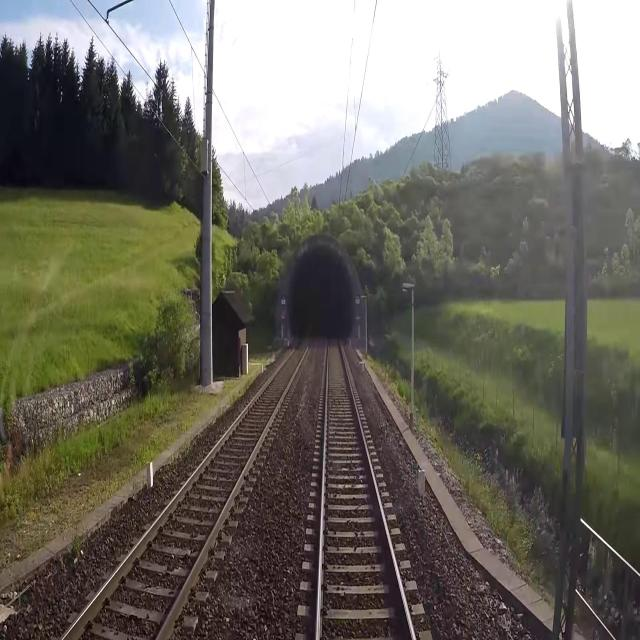rail-track: (63, 331, 312, 639), (320, 338, 411, 639)
